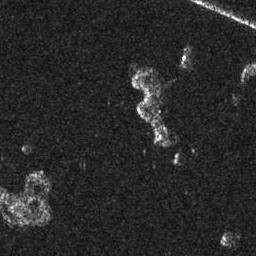ship: (174, 152, 179, 164)
